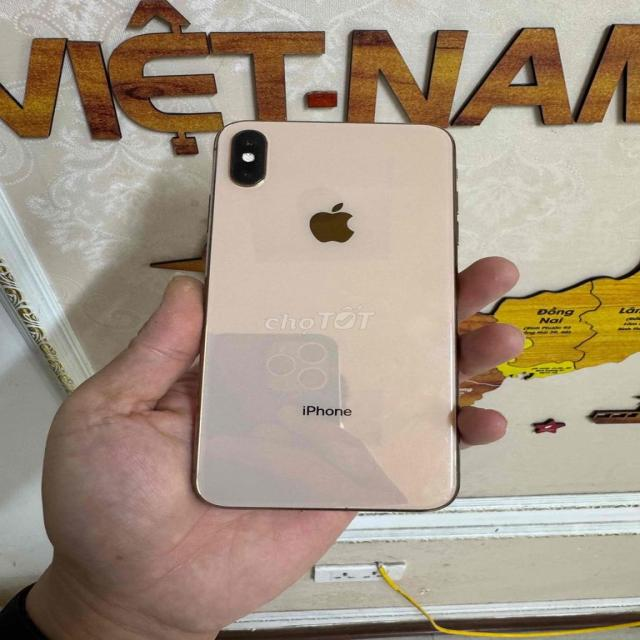gen_x_xs: (198, 105, 466, 522)
scratch: (423, 480, 465, 506), (438, 434, 458, 449)
